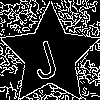J: (25, 30, 62, 82)
